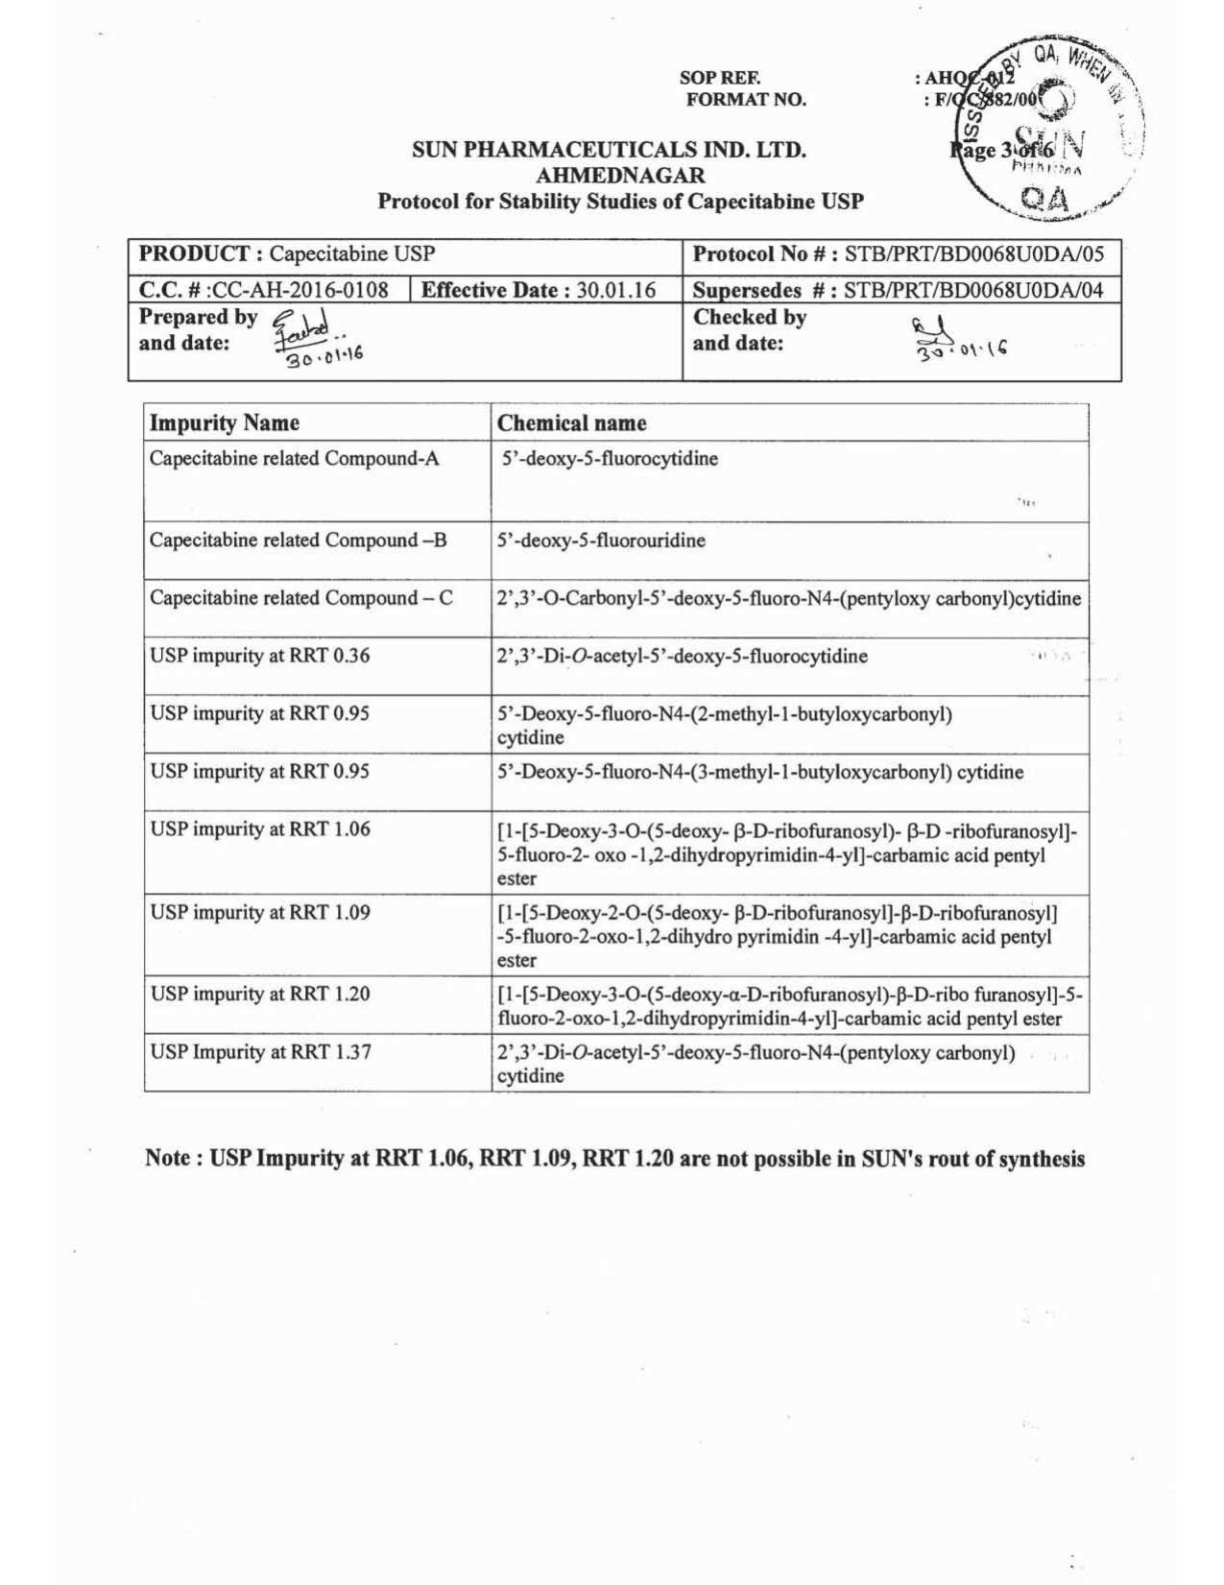full_lined: (143, 402, 1090, 1093), (126, 238, 1122, 383)
